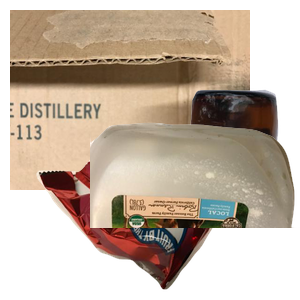cardboard: (10, 10, 250, 190)
glass: (87, 87, 300, 267)
plastic: (90, 120, 300, 300)
trash: (34, 136, 253, 300)
